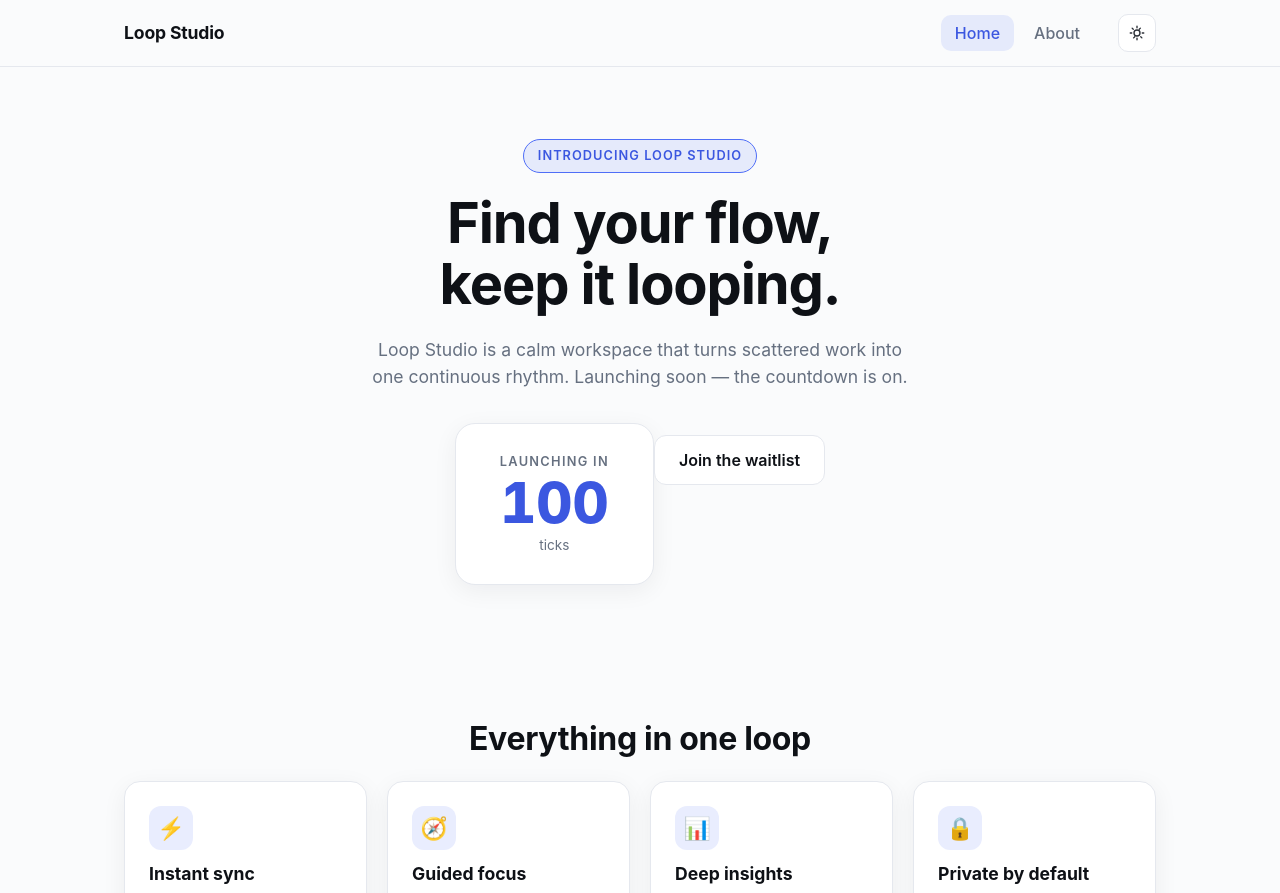
Test: App › navigates to the about page via the nav
Click the link "About" at (1057, 33), box [1034, 23, 1080, 43]
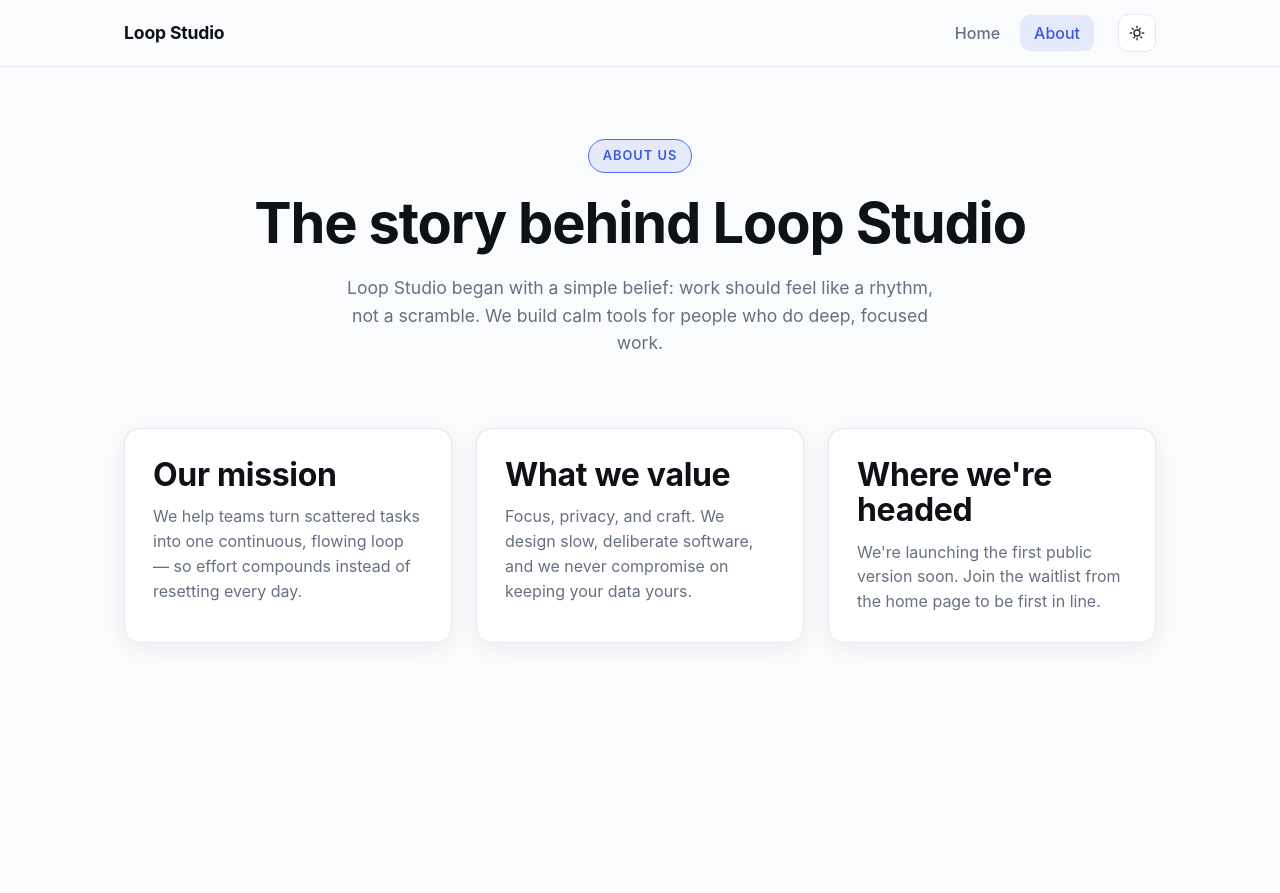
Expected: the heading "The story behind Loop Studio" is shown, [254, 189, 1026, 257]
